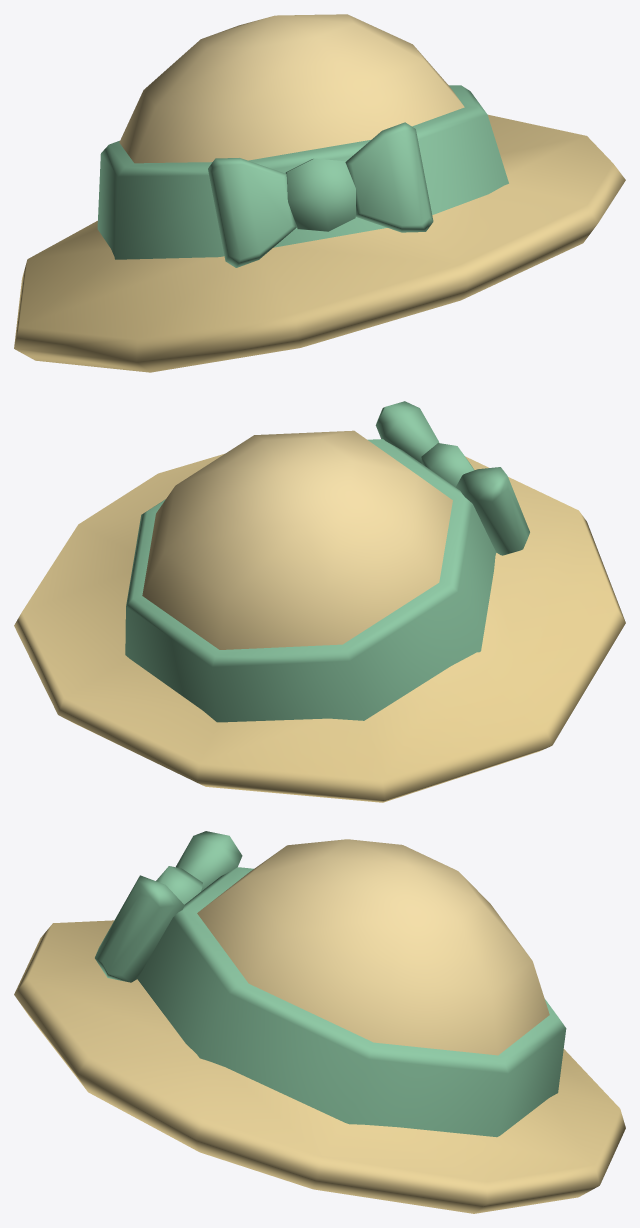
The model's file is Headgear_16.fbx.
The picture shows the model from 3 angles, top to bottom: view 1: azimuth 30°, elevation 25°; view 2: azimuth 150°, elevation 25°; view 3: azimuth 270°, elevation 25°; orthographic projection. The views are drawn at different scales.
Visible parts, largest first — view 1: Headgear_16; view 2: Headgear_16; view 3: Headgear_16.
Part boxes in pixels (x1,y1,x2,y2): Headgear_16: [14, 14, 625, 372]; Headgear_16: [14, 401, 625, 802]; Headgear_16: [14, 831, 625, 1213].
Size of the model in its own units: 128 by 63.37 by 119.
